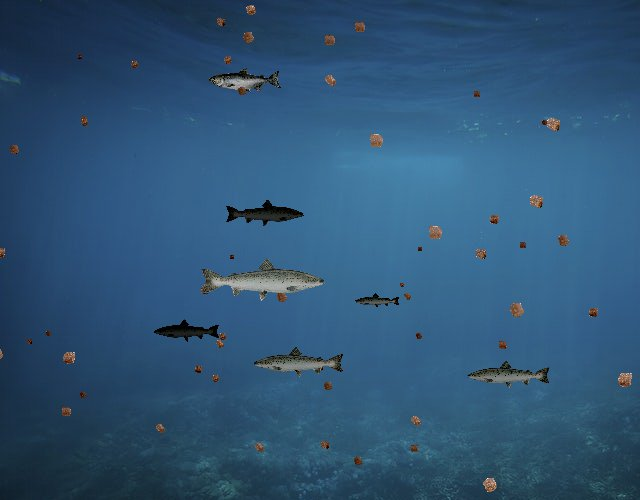Fish: (198, 256, 327, 302), (253, 346, 347, 380), (466, 359, 552, 390), (224, 199, 305, 228), (209, 67, 282, 94), (154, 319, 222, 343), (354, 293, 401, 310)
Pellet: (610, 364, 640, 394), (318, 68, 342, 92), (236, 25, 260, 49), (239, 0, 262, 22), (4, 140, 25, 161), (218, 50, 237, 69), (211, 12, 230, 31), (76, 114, 92, 130), (538, 116, 551, 129), (23, 335, 35, 347)
